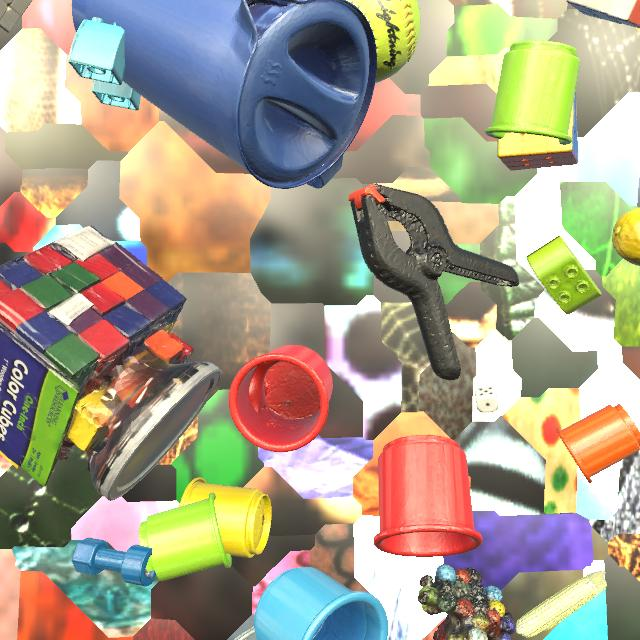ycb_002_master_chef_can: (234, 626, 257, 640)
ycb_014_lemon: (612, 207, 640, 266)
